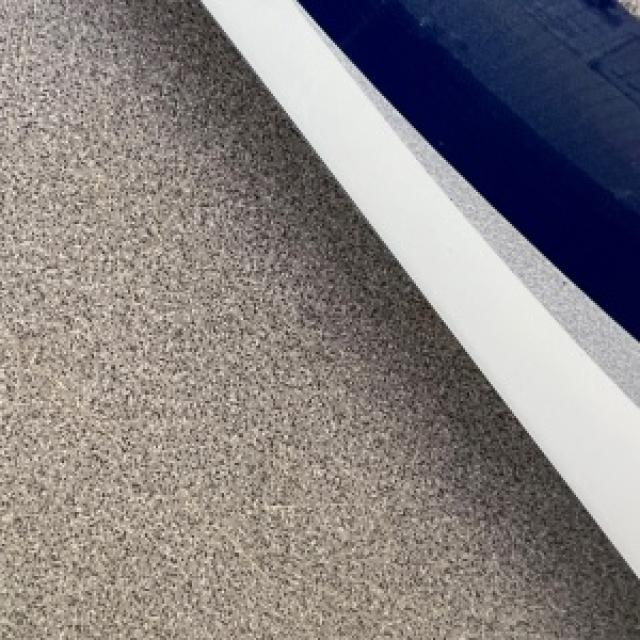healthy: (0, 0, 638, 638), (203, 0, 638, 574)
